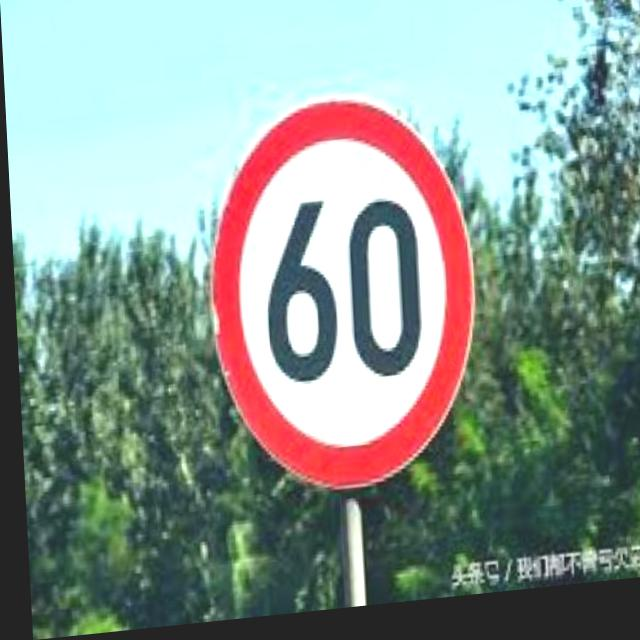limit60: (195, 90, 486, 513)
